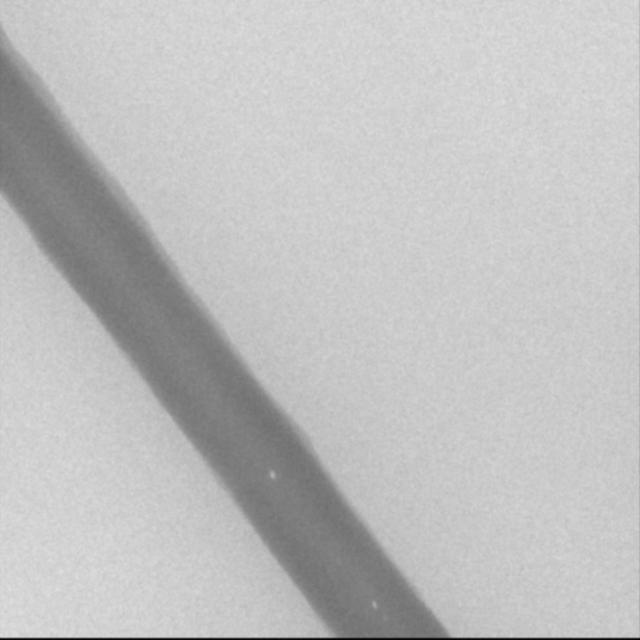air hole: (369, 599, 379, 610), (269, 468, 277, 480)
